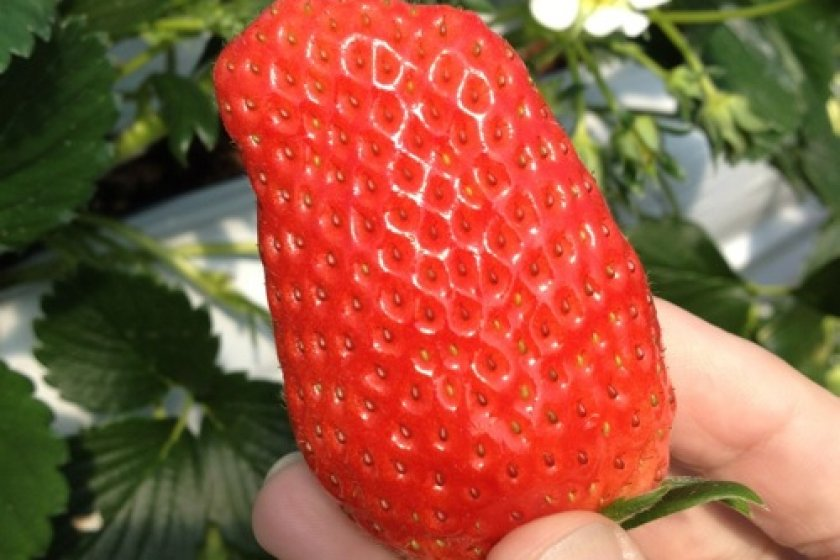ripe: (211, 0, 704, 558)
